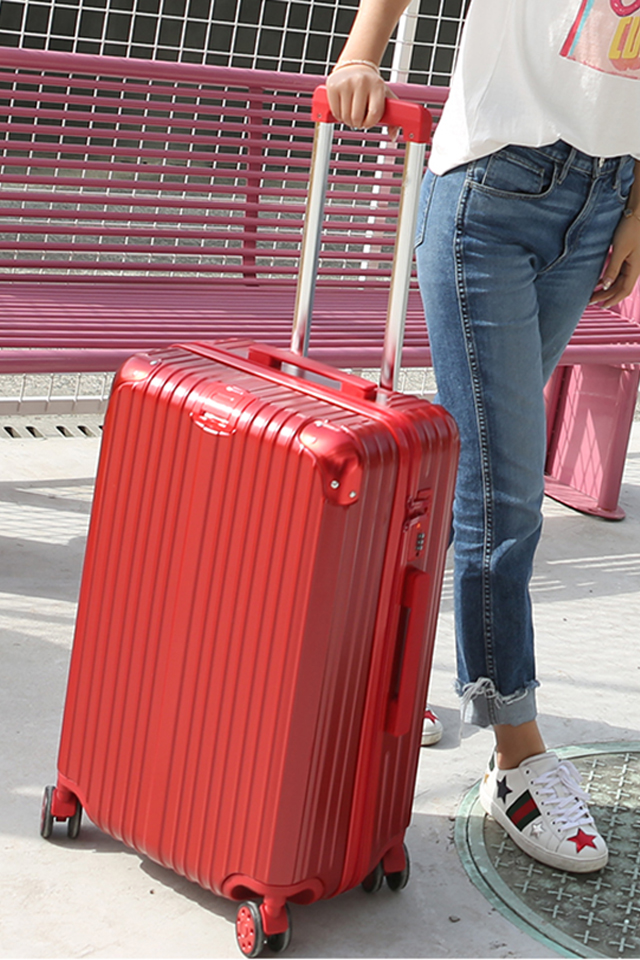box: (59, 340, 460, 915)
handle: (384, 570, 433, 738), (246, 345, 378, 401)
lock: (408, 488, 433, 563)
wheel: (234, 899, 293, 959), (361, 839, 410, 895), (38, 784, 84, 841)
